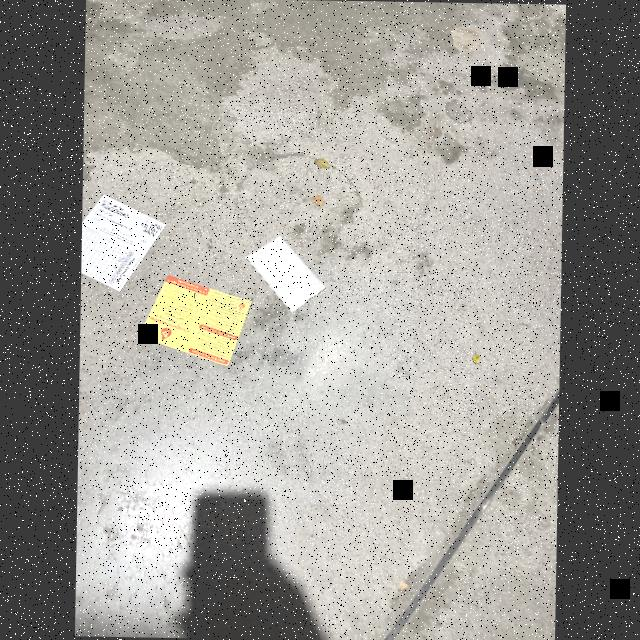scrap_paper: (132, 266, 254, 378), (81, 192, 168, 300), (242, 232, 331, 316)
